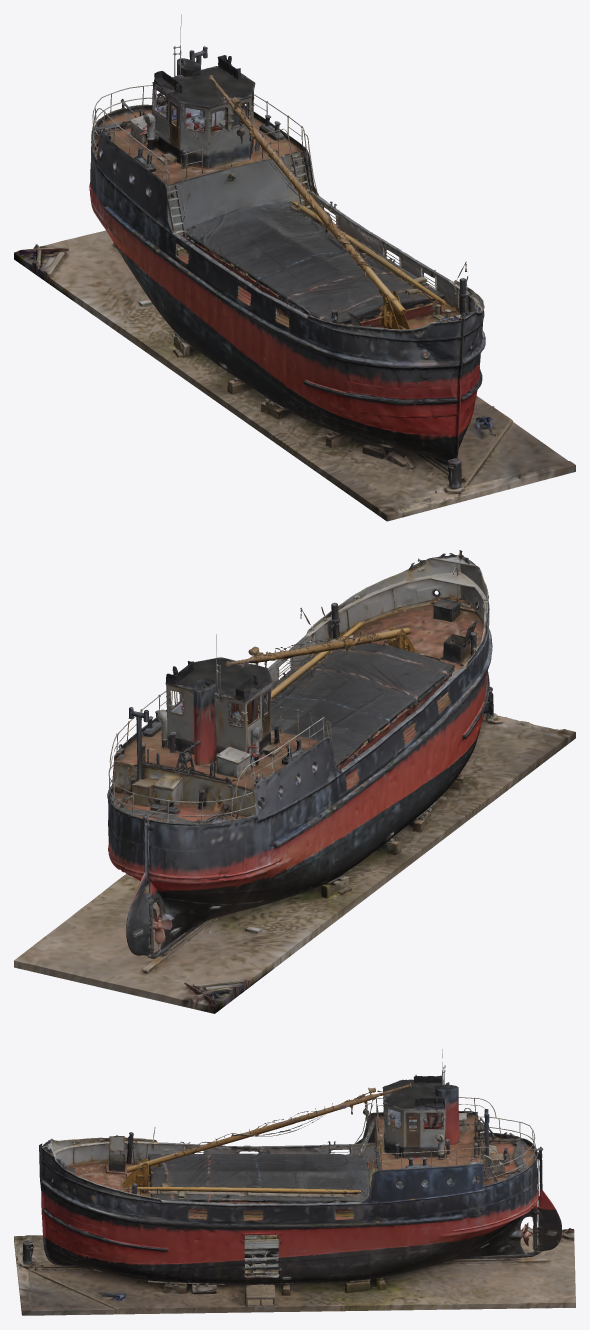
The picture shows the model from 3 angles, top to bottom: view 1: azimuth 30°, elevation 25°; view 2: azimuth 150°, elevation 25°; view 3: azimuth 270°, elevation 25°; orthographic projection. The views are drawn at different scales.
Parts seen in each view (by area): view 1: boat; view 2: boat; view 3: boat.
Part boxes in pixels (x1,y1,x2,y2): boat: (14, 14, 575, 521); boat: (14, 550, 575, 1013); boat: (14, 1049, 575, 1315).
Size of the model in its own units: 4.58 by 6.11 by 13.77.
